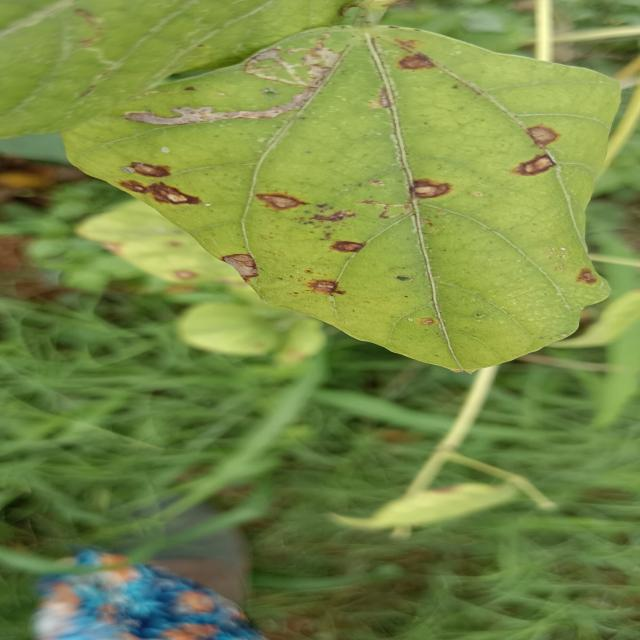Dolicos bean_cercospora leaf spot: (63, 30, 610, 374)
